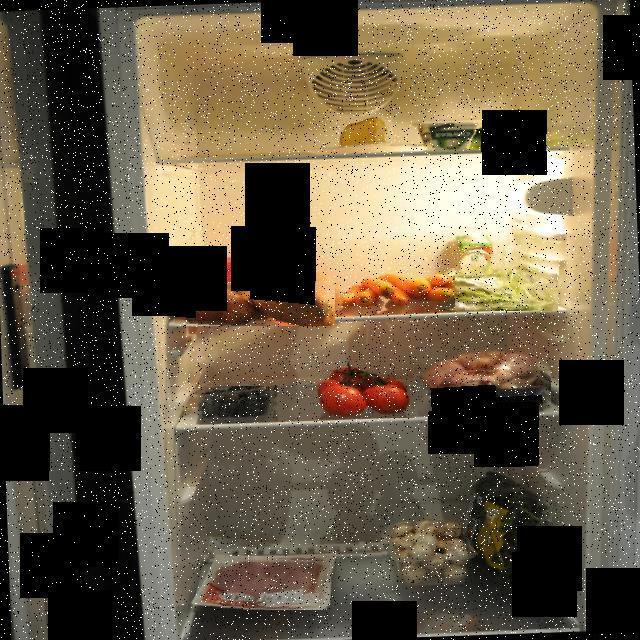blueberries: (200, 386, 280, 414)
butter: (192, 250, 313, 302)
carrot: (334, 268, 456, 312)
cheese: (338, 116, 393, 150)
chicken: (416, 348, 551, 412)
goat_cheese: (416, 118, 484, 148)
green_beans: (436, 248, 560, 311)
ham: (212, 556, 330, 610)
heavy_cream: (452, 234, 494, 282)
lime: (468, 121, 550, 152)
mushrooms: (382, 518, 481, 582)
spinach: (458, 465, 564, 611)
sweet_potato: (170, 268, 336, 326)
tomato: (308, 354, 414, 418)
